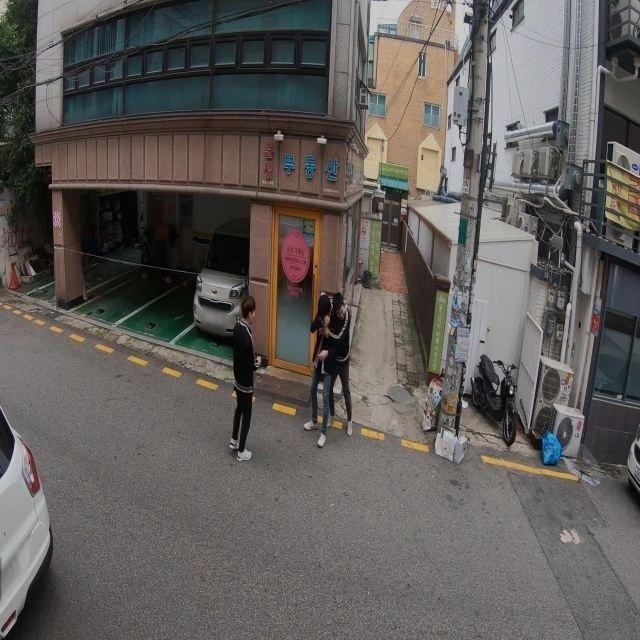fight: (305, 288, 352, 447)
non-fight: (226, 295, 261, 462)
